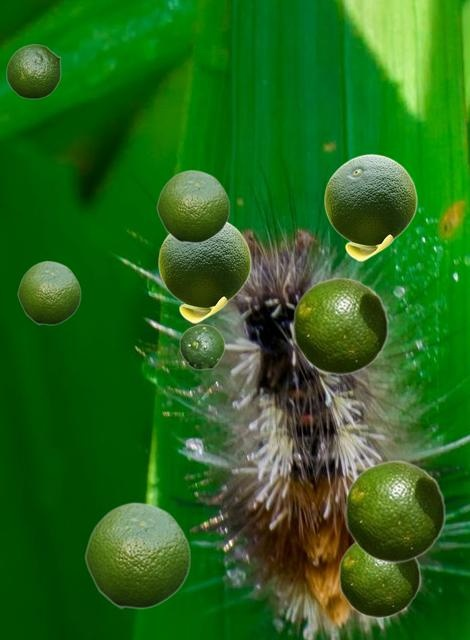calamansi: (84, 501, 190, 608), (344, 460, 445, 562), (324, 154, 416, 260), (292, 277, 388, 374), (158, 222, 250, 322), (338, 542, 420, 617), (156, 169, 229, 242), (17, 260, 80, 324), (6, 44, 60, 98), (179, 324, 224, 369)
